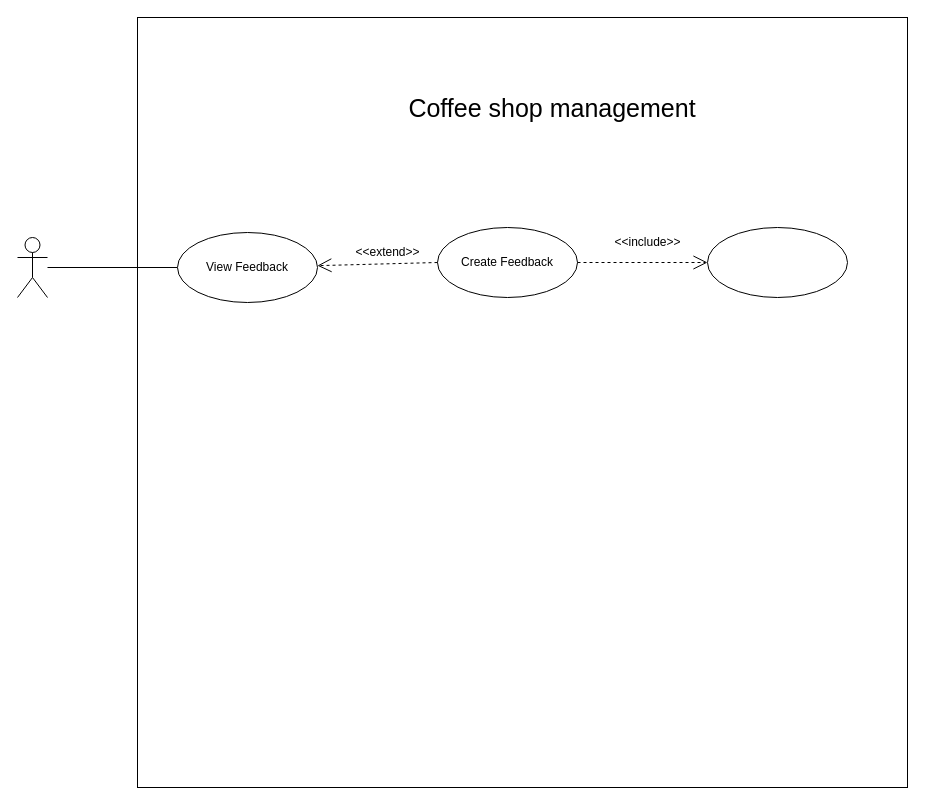
The diagram is 925 pixels wide and 805 high, and some of its shapes have lost their labels. Each missing label, with the centre of its shape:
"Actor" goes at (32,267).
"Confirm Create" goes at (777,262).
